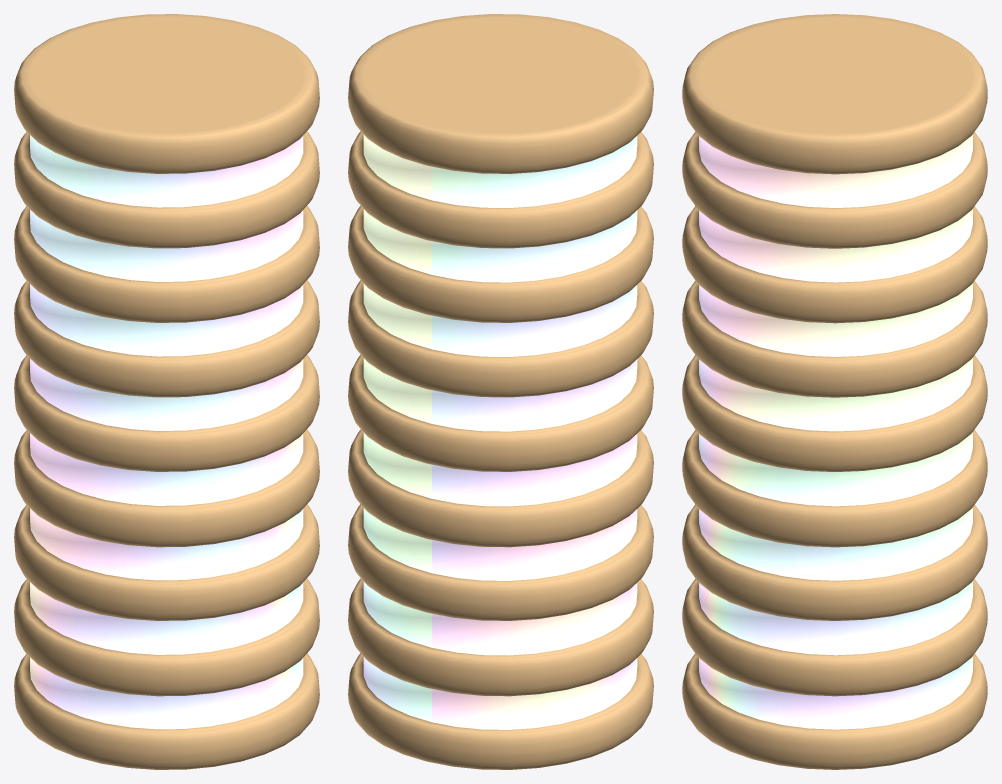
The model's file is track2Building1.glb.
The picture shows the model from 3 angles, left to right: view 1: azimuth 30°, elevation 25°; view 2: azimuth 150°, elevation 25°; view 3: azimuth 270°, elevation 25°; orthographic projection.
Visible parts, largest first — view 1: track2building1; view 2: track2building1; view 3: track2building1.
Boxes of the visible parts, box(x1,y1,x2,y2) form: track2building1: box(14, 14, 319, 769); track2building1: box(348, 14, 653, 769); track2building1: box(682, 14, 987, 769).
Bounding box in the file's own units: 4.23 × 9.65 × 4.22.
Materials: 2 (1 with a texture image).
